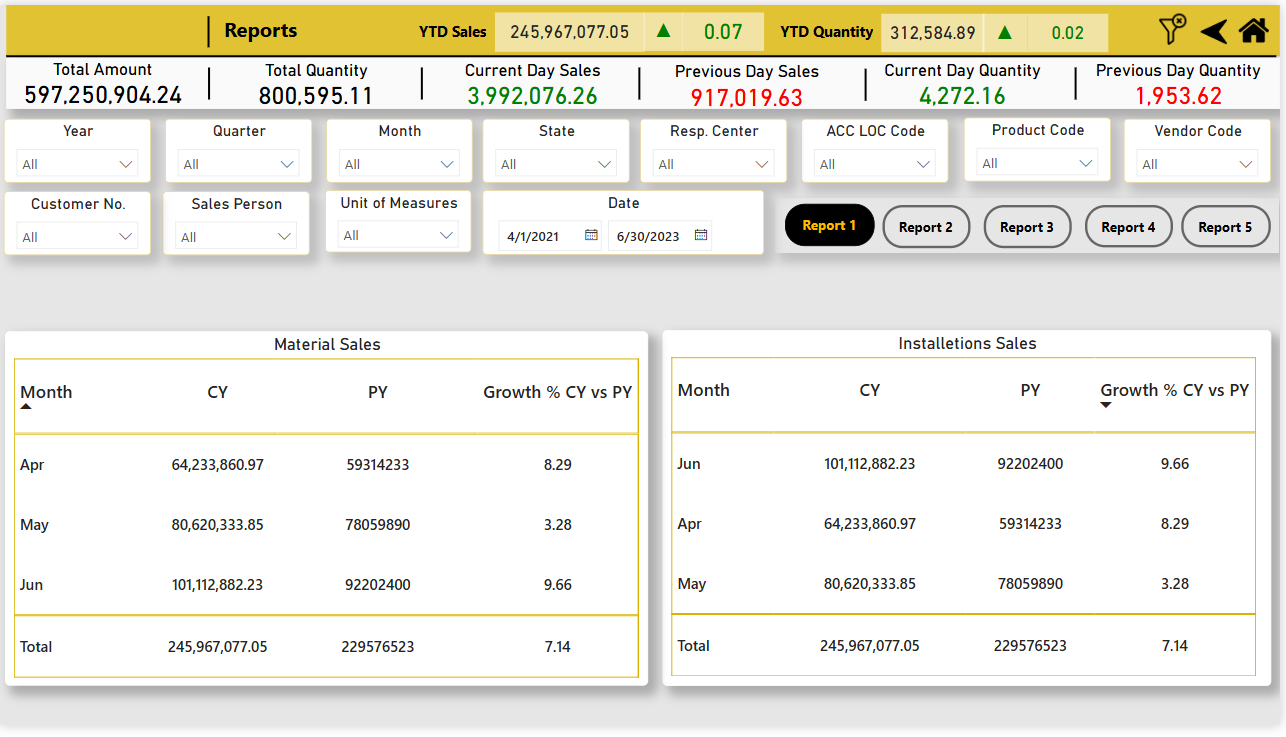

Layout of this report page (visuals, bound fields, positions):
{"tool":"powerbi","page":{"name":"Reports","canvas":[1280,720],"ordinal":10},"visuals":[{"type":"shape","box":[6.2,0,1273.8,51.2],"z":0},{"type":"card","fields":{"Values":["Sales_Line Dax.YTD Amount Indicator"]},"box":[643.6,7.6,39.6,38.4],"z":0,"group":"g2"},{"type":"card","fields":{"Values":["Sales_Line Dax.YTD Qty Indicator"]},"box":[983.1,8.8,44.6,38],"z":0,"group":"g1"},{"type":"actionButton","box":[785.4,199.5,89.5,42.5],"z":0,"group":"g3"},{"type":"tableEx","title":"Installetions Sales","fields":{"Values":["Fiscal Year Line.Month","Sales_Line.Latest Year Amount demo","Sales_Line.Previous Year Amount Demo","Sales_Line.Demo %"]},"box":[663.1,324.9,608.6,355.7],"z":0,"group":"g5"},{"type":"card","fields":{"Values":["Sales_Line Dax.YTD Amount Variance in %"]},"box":[682,7.8,81.7,38],"z":1000,"group":"g2"},{"type":"card","fields":{"Values":["Sales_Line Dax.YTD Qty Variance in %"]},"box":[1027.7,8.5,80.8,38.6],"z":1000,"group":"g1"},{"type":"shape","box":[6.2,52.5,1273.8,51.2],"z":1000},{"type":"actionButton","box":[1086,200.3,88.1,42.2],"z":1000,"group":"g4"},{"type":"tableEx","title":"Material Sales","fields":{"Values":["Fiscal Year Line.Month","Sales_Line.Latest Year Amount demo","Sales_Line.Previous Year Amount Demo","Sales_Line.Demo %"]},"box":[5.1,325.8,643,354.7],"z":1000,"group":"g5"},{"type":"shape","box":[196.6,11.6,24.6,31],"z":2000},{"type":"actionButton","box":[883.3,200.3,88.1,43.4],"z":2000,"group":"g4"},{"type":"actionButton","box":[220,5,127.5,37.5],"z":3000},{"type":"actionButton","box":[1181.3,200.3,89.3,42.2],"z":3000,"group":"g4"},{"type":"image","box":[1234,3.8,40,43.9],"z":4000},{"type":"actionButton","box":[984.7,200.3,88.1,43.4],"z":4000,"group":"g4"},{"type":"image","box":[1195.3,8.9,37.4,36.1],"z":5000},{"type":"card","title":"Total Amount","fields":{"Values":["Sum(Sales_Line.Amount)"]},"box":[6.5,54.3,192.7,50.4],"z":6000},{"type":"card","title":"Total Quantity","fields":{"Values":["Sum(Sales_Line.Quantity)"]},"box":[219.8,55.6,192.7,50.4],"z":7000},{"type":"card","title":"Current Day Sales","fields":{"Values":["Sales_Line Dax.Current Day Amount"]},"box":[435.8,55.6,192.7,50.4],"z":8000},{"type":"card","title":"Current Day Quantity","fields":{"Values":["Sales_Line Dax.Current Day Qty"]},"box":[866.2,55,192.5,51.2],"z":9000},{"type":"card","title":"Previous Day Quantity","fields":{"Values":["Sales_Line Dax.Previous Day Qty"]},"box":[1081.2,55,193.8,51.2],"z":10000},{"type":"card","title":"Previous Day Sales","fields":{"Values":["Sales_Line Dax.Previous Day Amount"]},"box":[650,56.2,193.8,51.2],"z":11000},{"type":"shape","box":[186.2,62.1,45.3,32.3],"z":12000},{"type":"shape","box":[395.7,62.1,51.7,32.3],"z":13000},{"type":"shape","box":[614.3,62.1,51.7,32.3],"z":14000},{"type":"shape","box":[840.6,63.4,51.7,32.3],"z":15000},{"type":"shape","box":[1050.1,62.1,51.7,32.3],"z":16000},{"type":"image","box":[1149.8,3.8,45.3,41.4],"z":17000},{"type":"slicer","title":"Year","fields":{"Values":["Year.Year"]},"box":[3.7,113.7,147.4,63.7],"z":18000},{"type":"slicer","title":"Quarter","fields":{"Values":["Fiscal Year Line.Quarter"]},"box":[164.9,113.7,147.4,63.7],"z":19000},{"type":"slicer","title":"Month","fields":{"Values":["Fiscal Year Line.Month"]},"box":[326.1,113.7,146.2,63.7],"z":20000},{"type":"slicer","title":"State","fields":{"Values":["Sales_Line.State"]},"box":[482.2,113.7,147.4,63.7],"z":21000},{"type":"slicer","title":"Sales Person","fields":{"Values":["Sales_Line.Sales Person"]},"box":[162.9,185.8,147.2,63.9],"z":22000},{"type":"slicer","title":"ACC LOC Code","fields":{"Values":["Sales_Line.ACC LOC Code"]},"box":[800.8,113.7,147.4,63.7],"z":23000},{"type":"slicer","title":"Product Code","fields":{"Values":["Sales_Line.Product Group Code"]},"box":[963.2,112.4,147.4,63.7],"z":24000},{"type":"slicer","title":"Vendor Code","fields":{"Values":["Sales_Line.Vendor Code"]},"box":[1124.3,113.7,147.4,63.7],"z":25000},{"type":"slicer","title":"Customer No.","fields":{"Values":["Sales_Line.Sell-to Customer No."]},"box":[3.6,185.8,147.2,63.9],"z":26000},{"type":"slicer","title":"Resp. Center","fields":{"Values":["Sales_Line.Responsibility Center"]},"box":[639.4,113.4,147.2,63.9],"z":27000},{"type":"slicer","title":"Unit of Measures","fields":{"Values":["Fiscal Year Line.Date"]},"box":[325.6,185.6,146.7,62.2],"z":28000},{"type":"card","fields":{"Values":["Sales_Line Dax.YTD Amount"]},"box":[494.9,7,149.7,39.6],"z":29000},{"type":"card","fields":{"Values":["Sales_Line Dax.YTD Qty"]},"box":[880.7,8.2,103.2,38.7],"z":30000},{"type":"actionButton","box":[414.5,6.2,80.4,39.6],"z":31000},{"type":"actionButton","box":[776.4,6.3,102.7,39.6],"z":32000},{"type":"group","id":"g1","title":"Group 1","box":[983.1,8.5,125.5,38.6],"z":33000},{"type":"group","id":"g2","title":"Group 2","box":[643.6,7.6,120,38.4],"z":34000},{"type":"shape","box":[774.9,193,504.1,55],"z":35000},{"type":"group","id":"g3","title":"On Btn","box":[785.4,199.1,485,43.4],"z":36000},{"type":"group","id":"g4","title":"Off Btn","box":[785.6,199.1,485,44.6],"z":37000},{"type":"group","id":"g5","title":"Report 1","box":[5.1,324.9,1266.6,355.7],"z":38000},{"type":"slicer","title":"Date","fields":{"Values":["Fiscal Year Line.Date"]},"box":[482.5,185,281.2,65],"z":42000},{"type":"shape","box":[6.2,45,1270,12.5],"z":44000}]}

Visuals, with their boxes in screenshot pixels (x1, y1, x2, y2), scaled from the page's 1280x720 canvas onto the 1286x737 screenshot:
shape: detection(6, 0, 1285, 52)
card - Sales_Line Dax.YTD Amount Indicator: detection(647, 8, 686, 47)
card - Sales_Line Dax.YTD Qty Indicator: detection(988, 9, 1033, 48)
actionButton: detection(789, 204, 879, 248)
"Installetions Sales" tableEx: detection(666, 333, 1278, 697)
card - Sales_Line Dax.YTD Amount Variance in %: detection(685, 8, 767, 47)
card - Sales_Line Dax.YTD Qty Variance in %: detection(1033, 9, 1114, 48)
shape: detection(6, 54, 1285, 106)
actionButton: detection(1091, 205, 1180, 248)
"Material Sales" tableEx: detection(5, 333, 651, 697)
shape: detection(198, 12, 222, 44)
actionButton: detection(887, 205, 976, 249)
actionButton: detection(221, 5, 349, 44)
actionButton: detection(1187, 205, 1277, 248)
image: detection(1240, 4, 1280, 49)
actionButton: detection(989, 205, 1078, 249)
image: detection(1201, 9, 1238, 46)
"Total Amount" card: detection(7, 56, 200, 107)
"Total Quantity" card: detection(221, 57, 414, 109)
"Current Day Sales" card: detection(438, 57, 631, 109)
"Current Day Quantity" card: detection(870, 56, 1064, 109)
"Previous Day Quantity" card: detection(1086, 56, 1281, 109)
"Previous Day Sales" card: detection(653, 58, 848, 110)
shape: detection(187, 64, 233, 97)
shape: detection(398, 64, 449, 97)
shape: detection(617, 64, 669, 97)
shape: detection(845, 65, 896, 98)
shape: detection(1055, 64, 1107, 97)
image: detection(1155, 4, 1201, 46)
"Year" slicer: detection(4, 116, 152, 182)
"Quarter" slicer: detection(166, 116, 314, 182)
"Month" slicer: detection(328, 116, 475, 182)
"State" slicer: detection(484, 116, 633, 182)
"Sales Person" slicer: detection(164, 190, 312, 256)
"ACC LOC Code" slicer: detection(805, 116, 953, 182)
"Product Code" slicer: detection(968, 115, 1116, 180)
"Vendor Code" slicer: detection(1130, 116, 1278, 182)
"Customer No." slicer: detection(4, 190, 152, 256)
"Resp. Center" slicer: detection(642, 116, 790, 181)
"Unit of Measures" slicer: detection(327, 190, 475, 254)
card - Sales_Line Dax.YTD Amount: detection(497, 7, 648, 48)
card - Sales_Line Dax.YTD Qty: detection(885, 8, 989, 48)
actionButton: detection(416, 6, 497, 47)
actionButton: detection(780, 6, 883, 47)
"Group 1" group: detection(988, 9, 1114, 48)
"Group 2" group: detection(647, 8, 767, 47)
shape: detection(779, 198, 1285, 254)
"On Btn" group: detection(789, 204, 1276, 248)
"Off Btn" group: detection(789, 204, 1277, 249)
"Report 1" group: detection(5, 333, 1278, 697)
"Date" slicer: detection(485, 189, 767, 256)
shape: detection(6, 46, 1282, 59)
